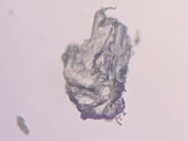microplastic: (54, 5, 141, 132)
